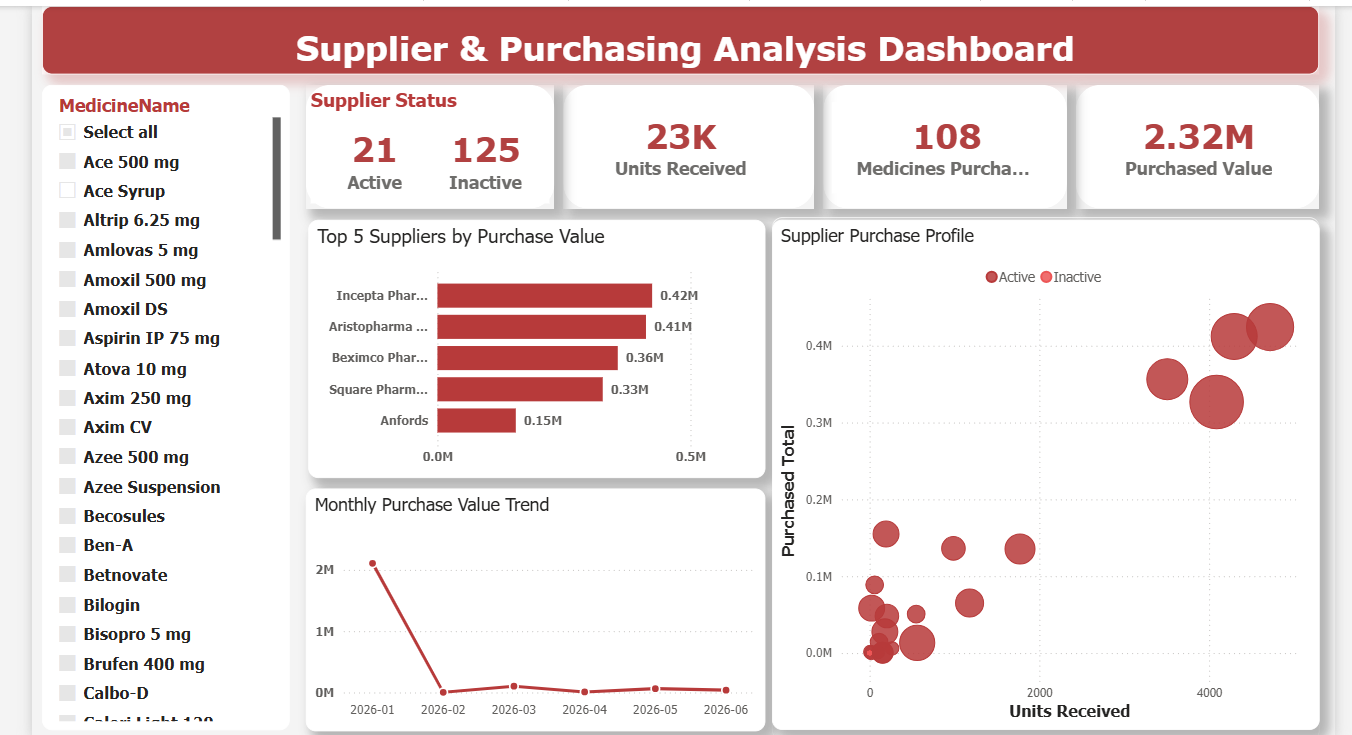

The dashboard page shown, as its layout file describes it:
{"tool":"powerbi","page":{"name":"Suppliers & Purchases","canvas":[1280,720],"ordinal":3},"visuals":[{"type":"shape","box":[10,0,1253.9,67.2],"z":0},{"type":"textbox","box":[9.8,0,1254,67.5],"z":1000},{"type":"shape","box":[1024.5,77.3,239.3,121.5],"z":2000},{"type":"shape","box":[776.7,77.3,239.3,121.5],"z":3000},{"type":"shape","box":[521.5,77.3,246.6,121.5],"z":4000},{"type":"shape","box":[268.7,77.3,244.2,121.5],"z":5000},{"type":"shape","box":[9.8,77.3,247.9,642.9],"z":6000},{"type":"shape","box":[271.2,207.4,499.4,256.4],"z":7000},{"type":"shape","box":[728.8,217.2,535,209.8],"z":8000},{"type":"shape","box":[274.8,463.8,451.5,256.4],"z":9000},{"type":"shape","box":[725.9,207.2,537.9,513.2],"z":10000},{"type":"cardVisual","fields":{"Data":["KPI Measures.Units Received"]},"box":[536.2,89.6,201.2,99.4],"z":11000},{"type":"cardVisual","fields":{"Data":["KPI Measures.Medicines Purchased"]},"box":[780.4,89.6,235.6,99.4],"z":12000},{"type":"cardVisual","fields":{"Data":["KPI Measures.Total Purchase Value"]},"box":[1035.1,89,219.6,99.4],"z":13000},{"type":"clusteredBarChart","title":"Top 5 Suppliers by Purchase Value","fields":{"Y":["KPI Measures.Total Purchase Value"],"Category":["StockPurchases.SupplierName"]},"box":[271.2,209.8,449.1,254],"z":14000},{"type":"lineChart","title":"Monthly Purchase Value Trend","fields":{"Category":["DateTable.Year Month"],"Y":["KPI Measures.Total Purchase Value"]},"box":[268.7,473.6,451.5,238],"z":15000},{"type":"scatterChart","title":"Supplier Purchase Profile","fields":{"X":["Sum(Suppliers.UnitsReceived)"],"Y":["Suppliers.TotalPurchaseValue"],"Category":["Suppliers.SupplierName"],"Series":["Suppliers.SupplierStatus"],"Size":["Sum(Suppliers.StockTransactions)"]},"box":[725.9,209.9,537.9,500.9],"z":16000},{"type":"slicer","fields":{"Values":["MedicineInventory.MedicineName"]},"box":[9.6,76.8,242.9,634],"z":17000},{"type":"cardVisual","title":"Supplier Status","fields":{"Data":["KPI Measures.Active Suppliers","KPI Measures.Inactive Suppliers"]},"box":[268.7,81,244.2,117.8],"z":18000}]}

Visuals, with their boxes on the page's 1280x720 design canvas (x1, y1, x2, y2). These are canvas units, not pixel positions in the 1352x735 screenshot, which may show the page scaled, cropped or inside an application window:
shape: pyautogui.locateOnScreen(10, 0, 1264, 67)
textbox: pyautogui.locateOnScreen(10, 0, 1264, 68)
shape: pyautogui.locateOnScreen(1024, 77, 1264, 199)
shape: pyautogui.locateOnScreen(777, 77, 1016, 199)
shape: pyautogui.locateOnScreen(522, 77, 768, 199)
shape: pyautogui.locateOnScreen(269, 77, 513, 199)
shape: pyautogui.locateOnScreen(10, 77, 258, 720)
shape: pyautogui.locateOnScreen(271, 207, 771, 464)
shape: pyautogui.locateOnScreen(729, 217, 1264, 427)
shape: pyautogui.locateOnScreen(275, 464, 726, 720)
shape: pyautogui.locateOnScreen(726, 207, 1264, 720)
cardVisual - KPI Measures.Units Received: pyautogui.locateOnScreen(536, 90, 737, 189)
cardVisual - KPI Measures.Medicines Purchased: pyautogui.locateOnScreen(780, 90, 1016, 189)
cardVisual - KPI Measures.Total Purchase Value: pyautogui.locateOnScreen(1035, 89, 1255, 188)
"Top 5 Suppliers by Purchase Value" clusteredBarChart: pyautogui.locateOnScreen(271, 210, 720, 464)
"Monthly Purchase Value Trend" lineChart: pyautogui.locateOnScreen(269, 474, 720, 712)
"Supplier Purchase Profile" scatterChart: pyautogui.locateOnScreen(726, 210, 1264, 711)
slicer - MedicineInventory.MedicineName: pyautogui.locateOnScreen(10, 77, 252, 711)
"Supplier Status" cardVisual: pyautogui.locateOnScreen(269, 81, 513, 199)
